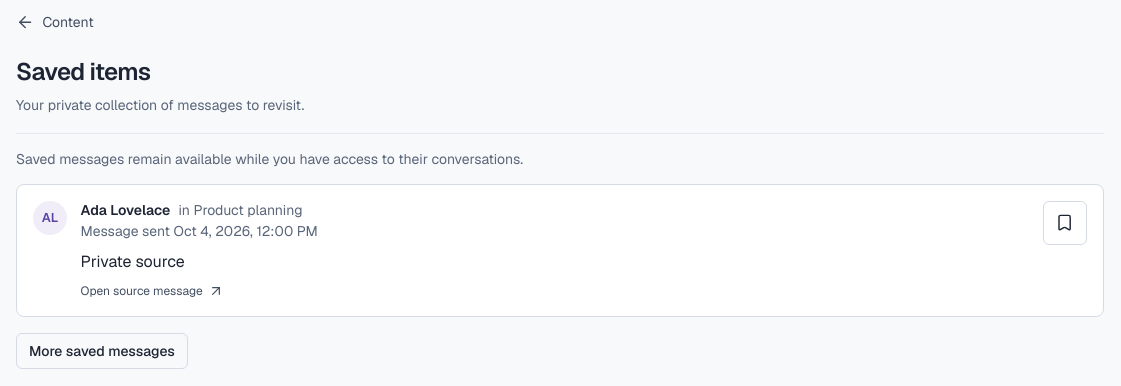
saved item pagination and authorization recovery › clears previously loaded content after authorization is denied
The image size is (1121, 386).
Expected: the link "Private source Open source message" is shown, [81,252,224,300]
Click the button "More saved messages": (102, 352) [16,334,188,370]
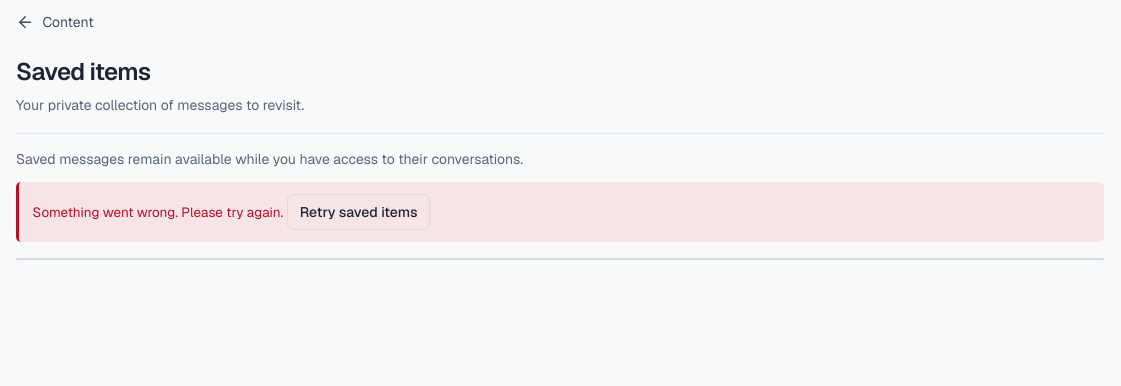
Now the link "Private source" is gone
Now the message "Something went wrong. Please try again. Retry saved items" is shown, box [16,182,1104,242]
